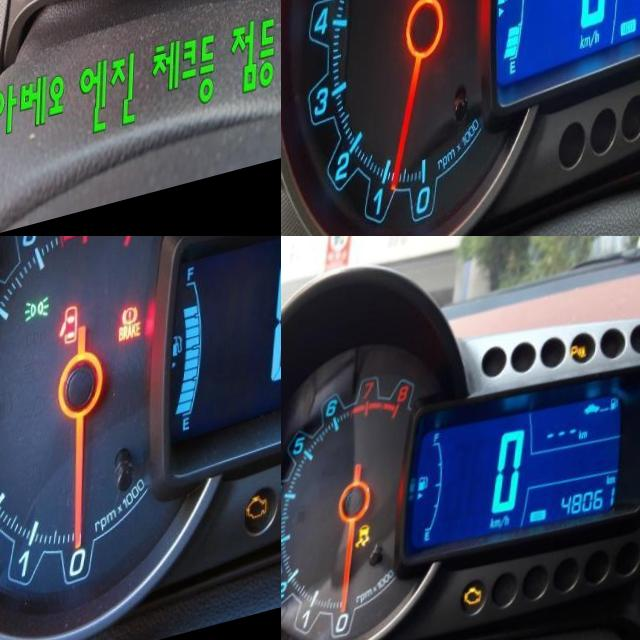Doors: (60, 313, 80, 356)
SideLamp: (24, 301, 51, 331)
